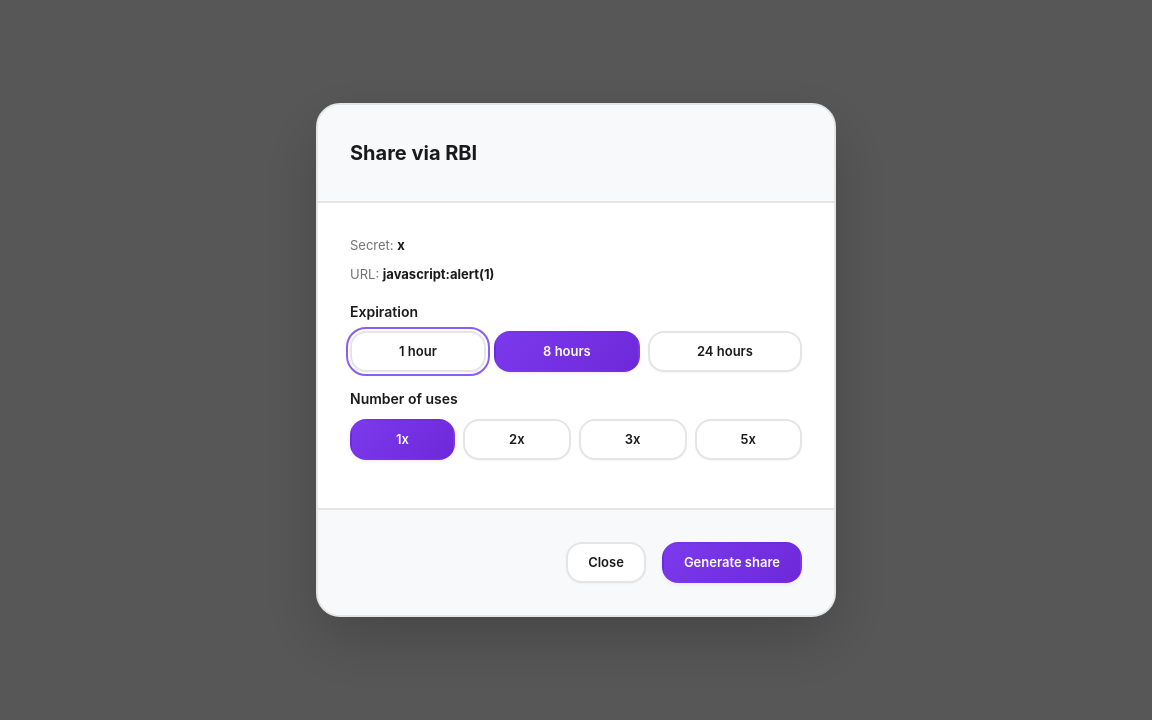
it: RBI-13 — envoi › URL d'entrée dangereuse : aucun wrap, erreur « URL invalide »
Click the button "Generate share".
click(732, 562)  # box [662,542,802,583]
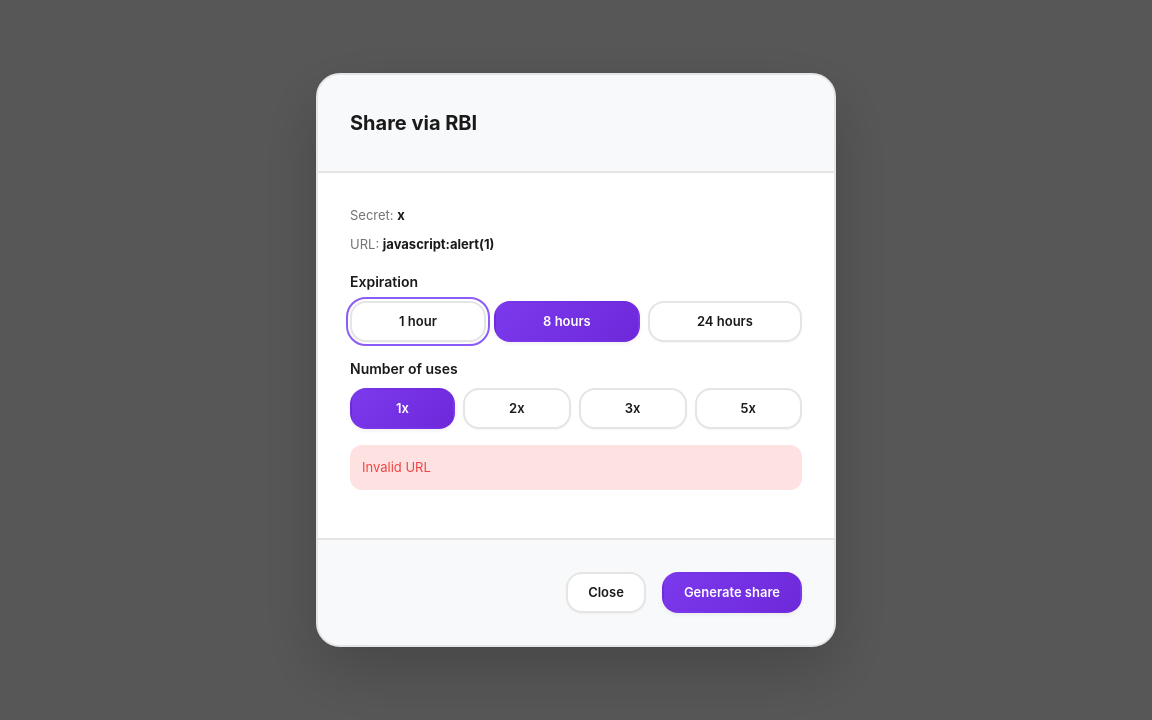
Result: the message "Invalid URL" is shown at [350,445,802,490]
